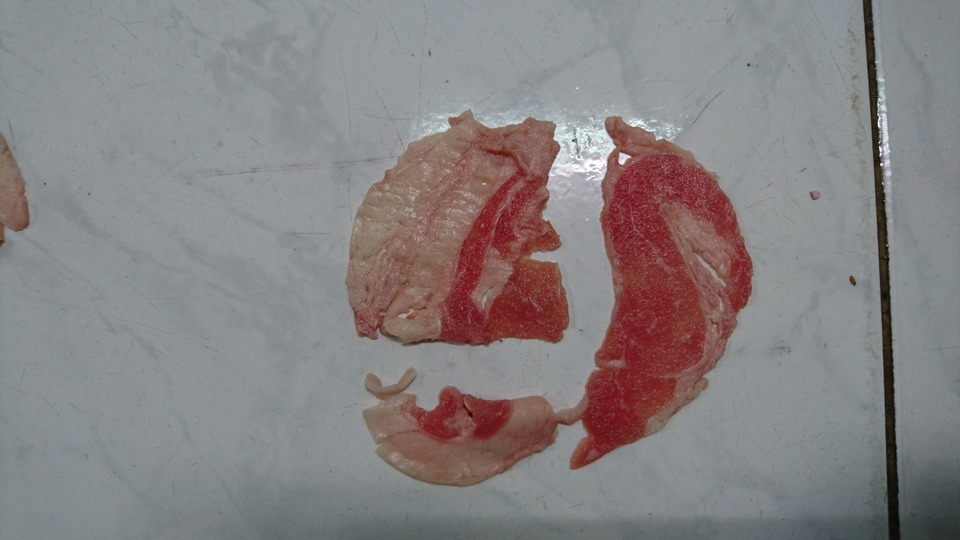restructured meat: (347, 104, 754, 484)
